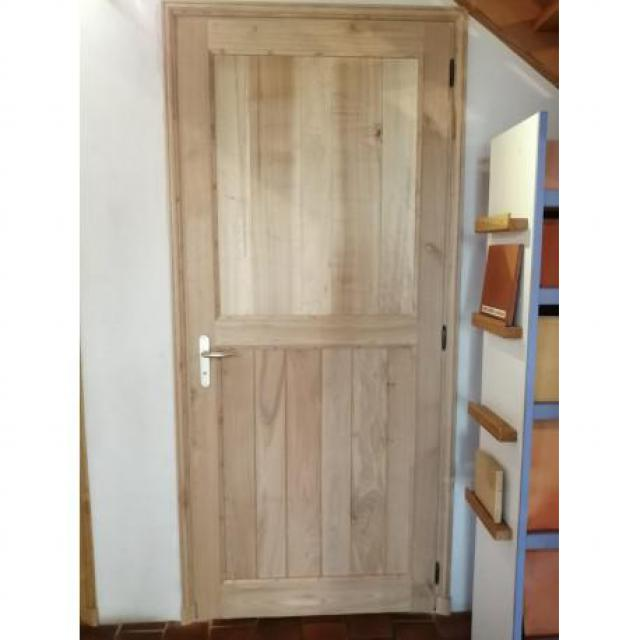close: (155, 1, 481, 632)
